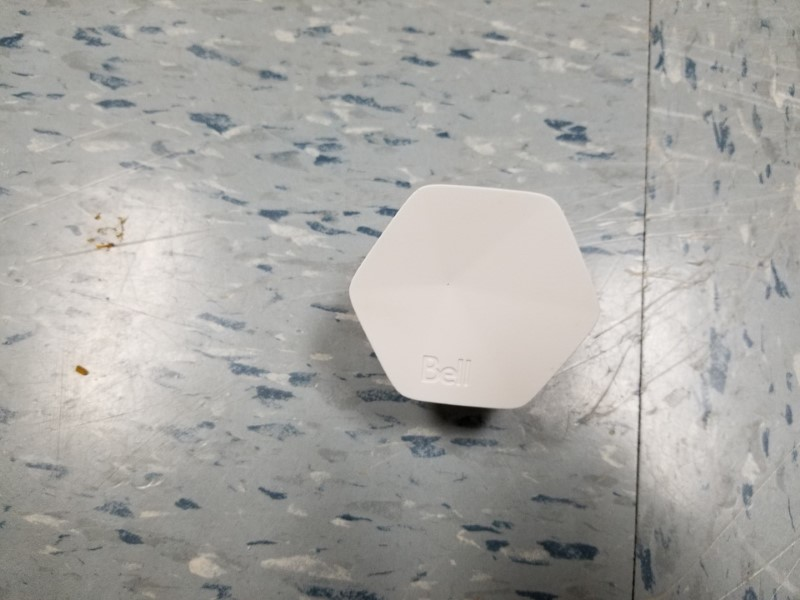pod: (342, 180, 607, 415)
